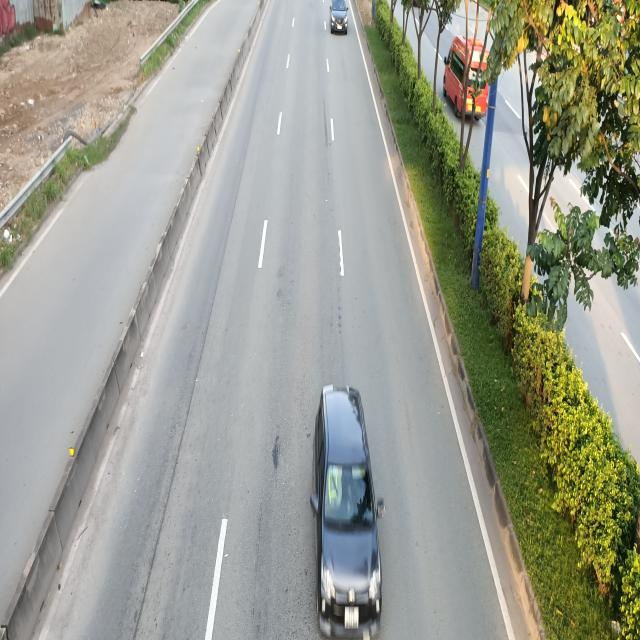car: (314, 383, 391, 636)
